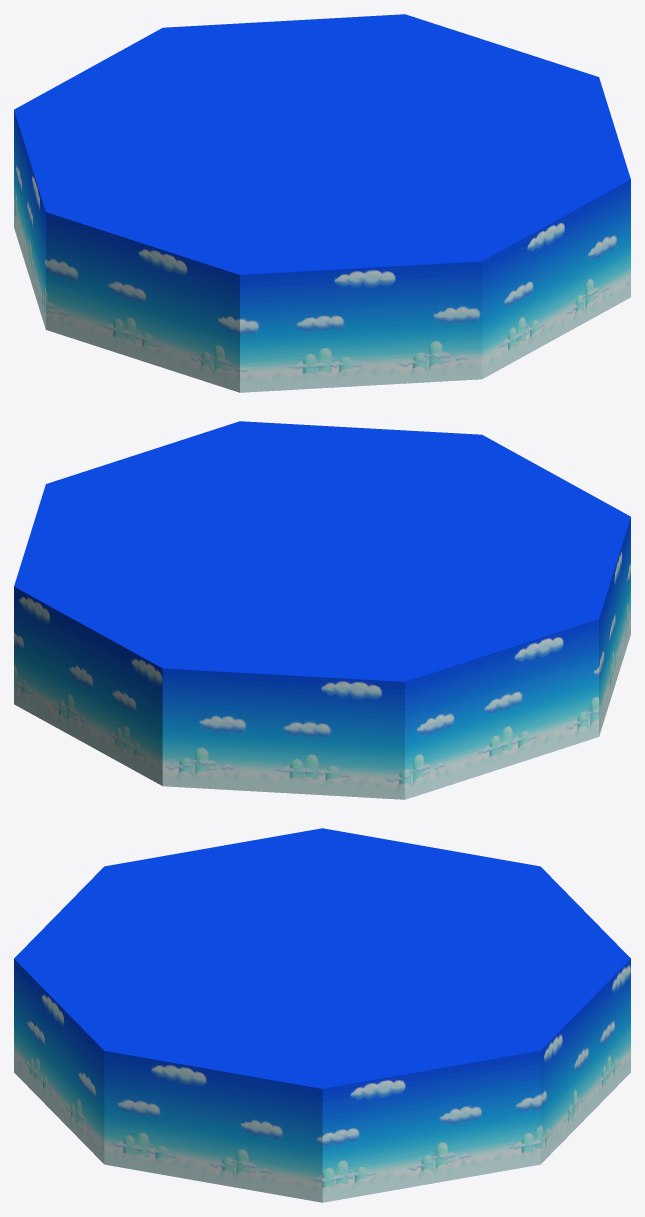
The model's file is old_peach_agb-old_peach_agb_V.glb.
The picture shows the model from 3 angles, top to bottom: view 1: azimuth 30°, elevation 25°; view 2: azimuth 150°, elevation 25°; view 3: azimuth 270°, elevation 25°; orthographic projection. The views are drawn at different scales.
Visible parts, largest first — view 1: old_peach_agb_V; view 2: old_peach_agb_V; view 3: old_peach_agb_V.
Part boxes in pixels (<box>): old_peach_agb_V: <box>14,14,630,392</box>; old_peach_agb_V: <box>14,421,630,799</box>; old_peach_agb_V: <box>14,828,630,1202</box>.
Bounding box in the file's own units: 860 × 175 × 860.
Materials: 4 (4 with a texture image).
